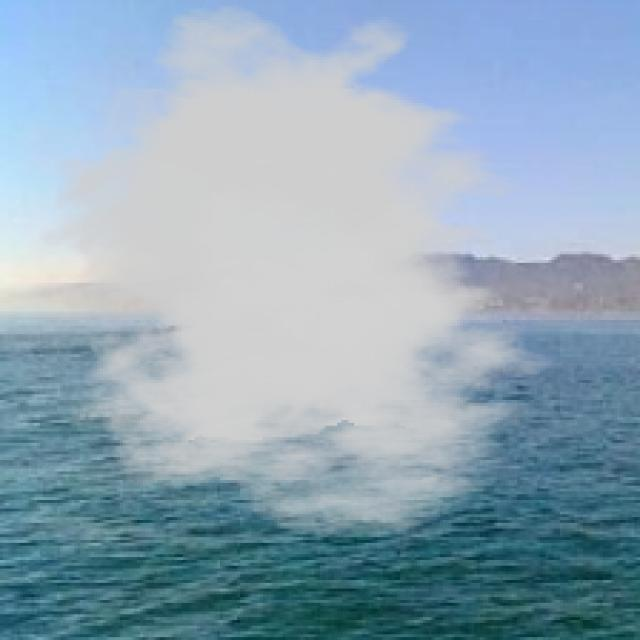smoke: (28, 3, 583, 537)
